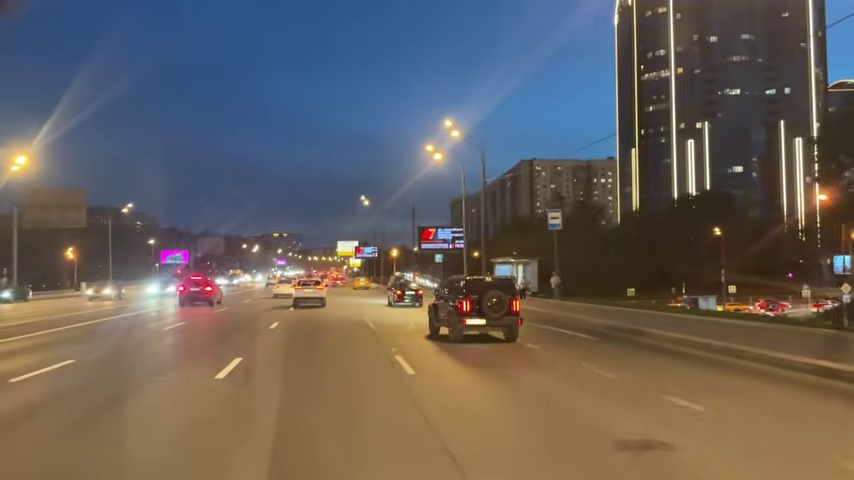acesa: (428, 117, 463, 163), (7, 150, 33, 176), (424, 143, 446, 167), (441, 118, 463, 140), (62, 245, 79, 263), (118, 201, 134, 218), (358, 195, 373, 210)
